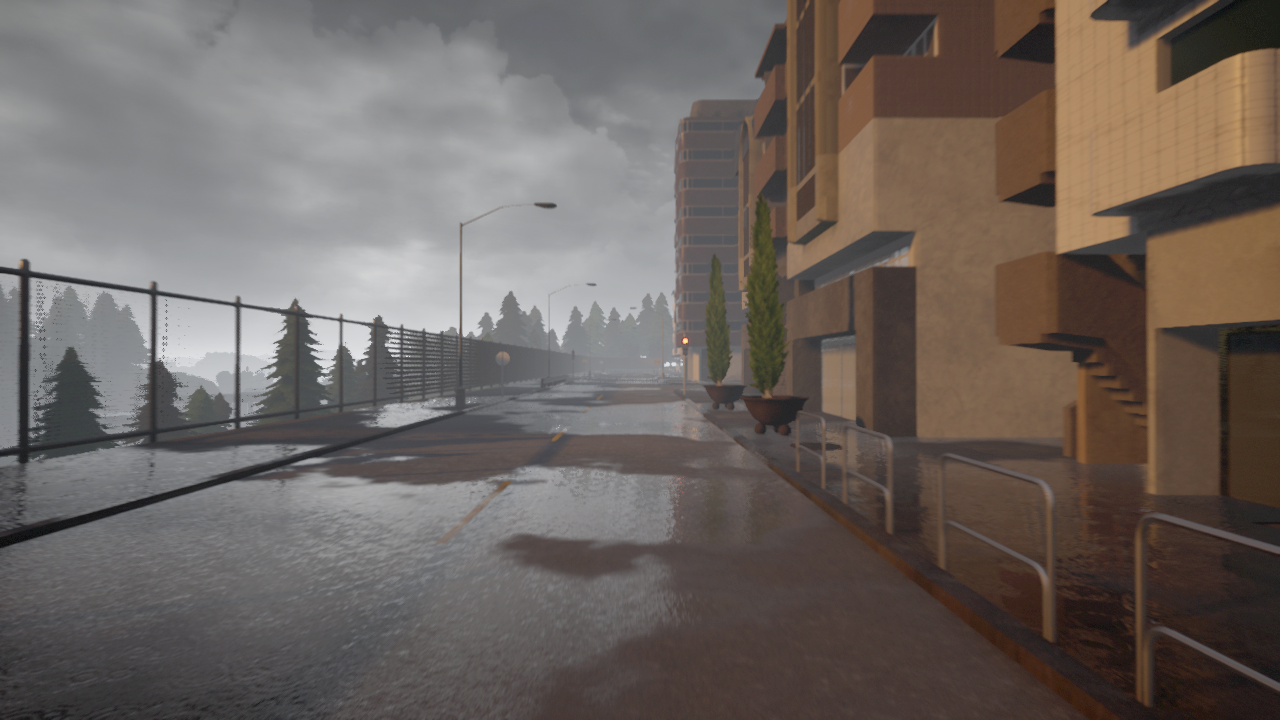red: (682, 336, 688, 356)
